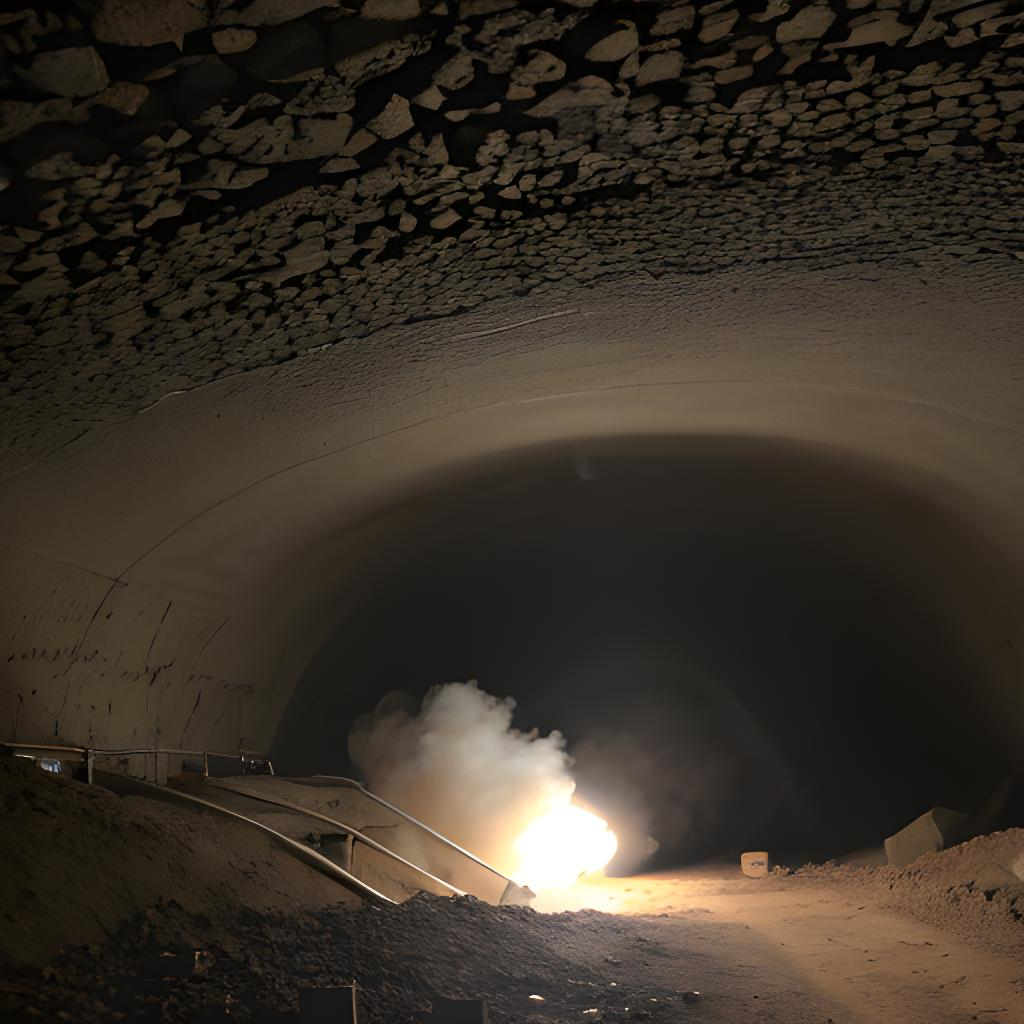fire: (444, 717, 643, 919)
smoke: (274, 664, 771, 929)
